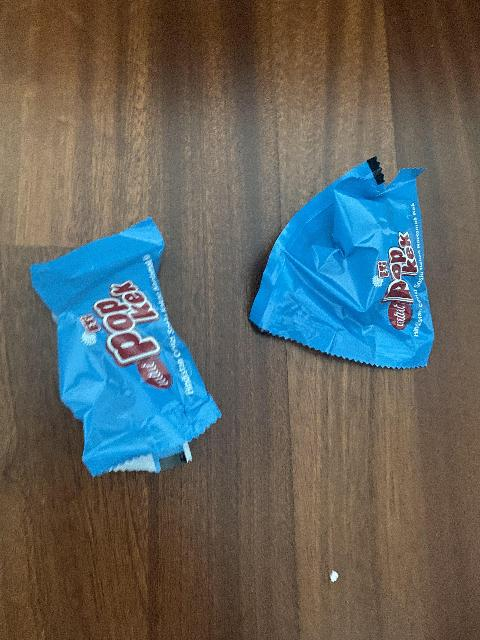Plastik: (24, 229, 232, 475), (254, 160, 441, 359)
